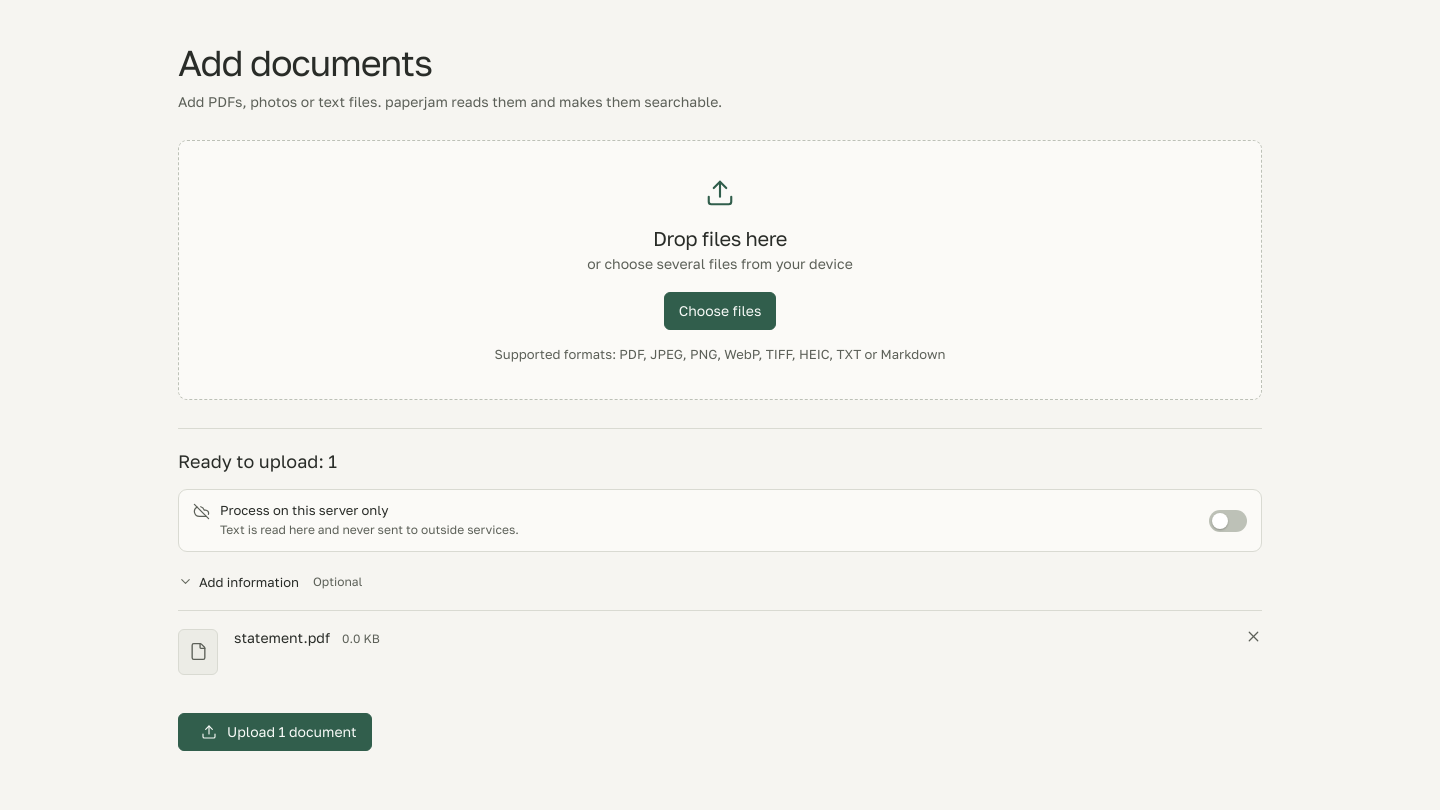
Test: UploadPage › shows the upload percentage from progress updates
The image size is (1440, 810).
Earlier steps of the test are not shown.
Click the button with class "upload-start" at (275,732), box 178,713 -> 372,751
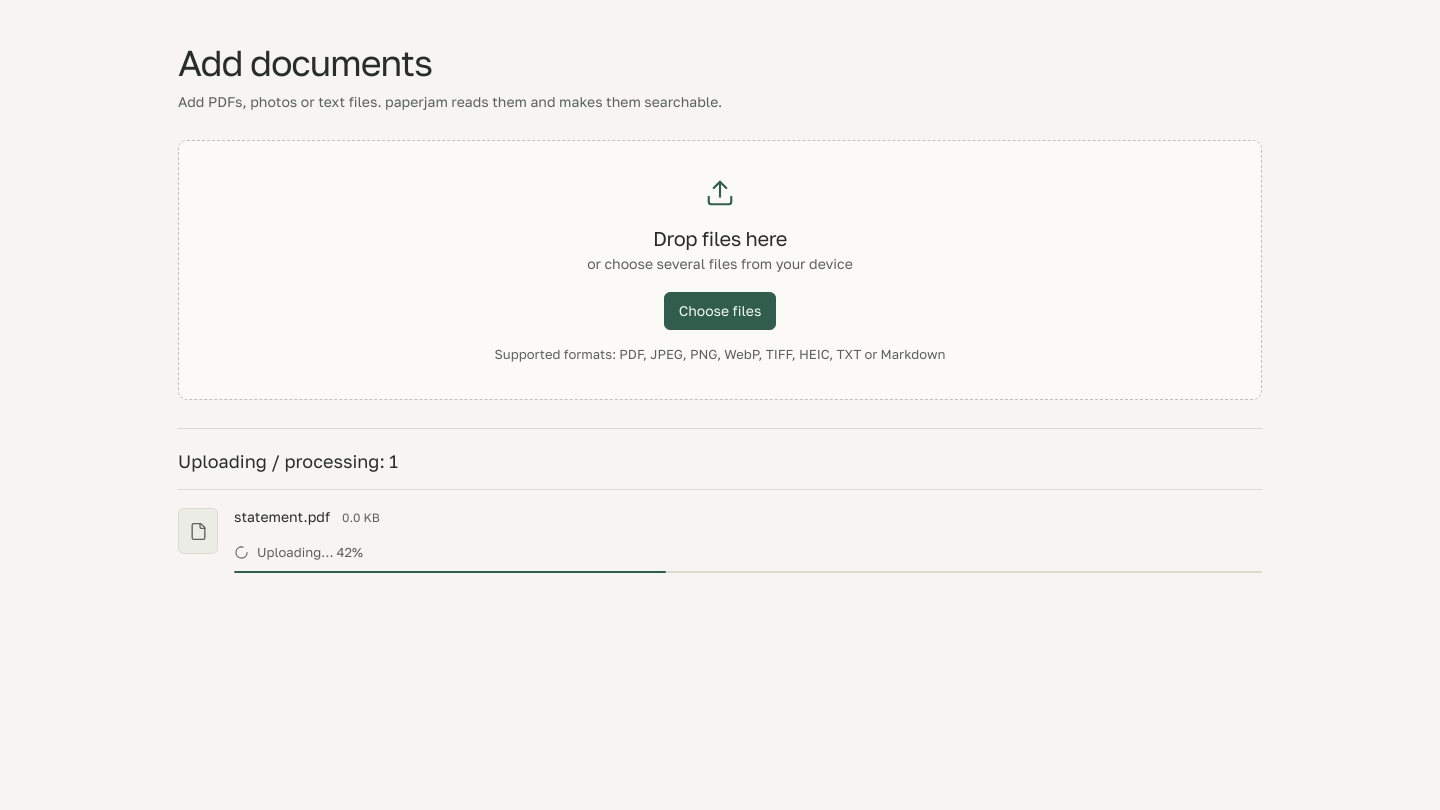
Expected: the message with class "upload-status" shows "42%", 333,544 -> 363,560
